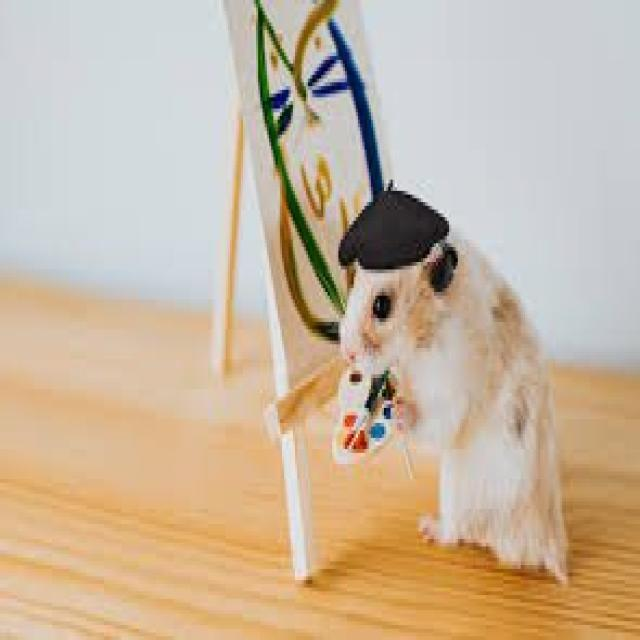hamster: (340, 205, 564, 570)
